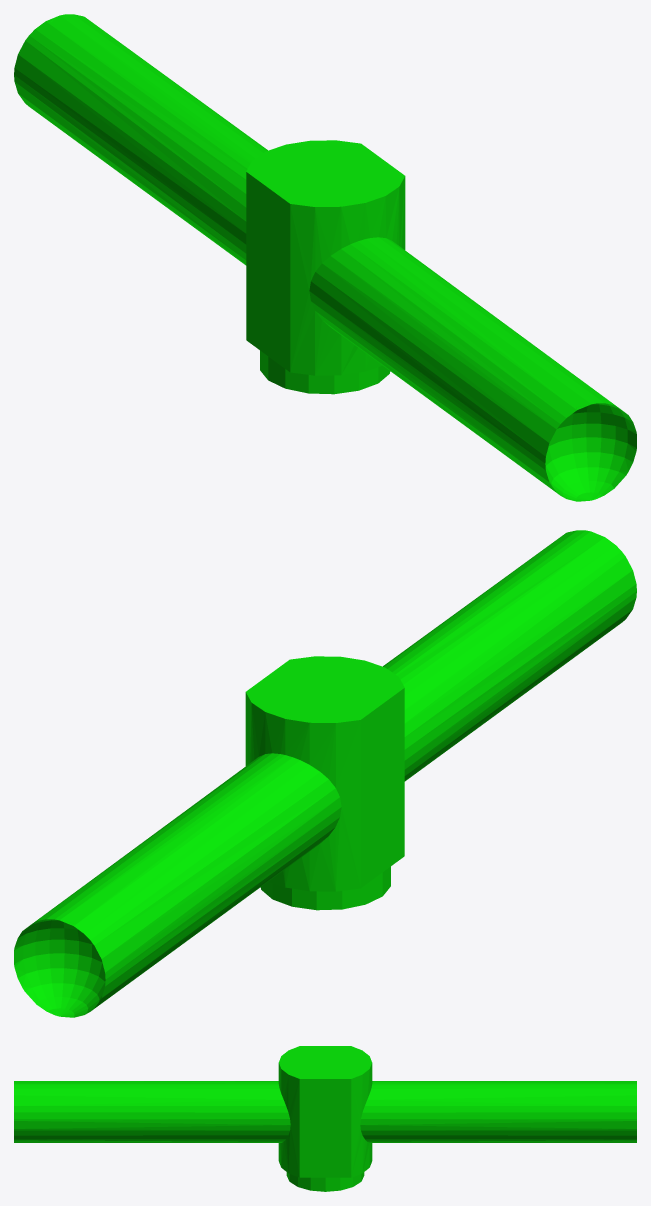
Rendered from DiffBar.dae.
3 views of the same model, one above another, from view 1: azimuth 30°, elevation 25°; view 2: azimuth 150°, elevation 25°; view 3: azimuth 270°, elevation 25° (orthographic). The views are drawn at different scales.
Visible parts, largest first — view 1: DiffBar; view 2: DiffBar; view 3: DiffBar.
Part boxes in pixels (x1=…): DiffBar: x1=14, y1=14, x2=636, y2=501; DiffBar: x1=14, y1=530, x2=636, y2=1017; DiffBar: x1=14, y1=1046, x2=636, y2=1191.
Bounding box in the file's own units: 0.05 × 0.4 × 0.08.
